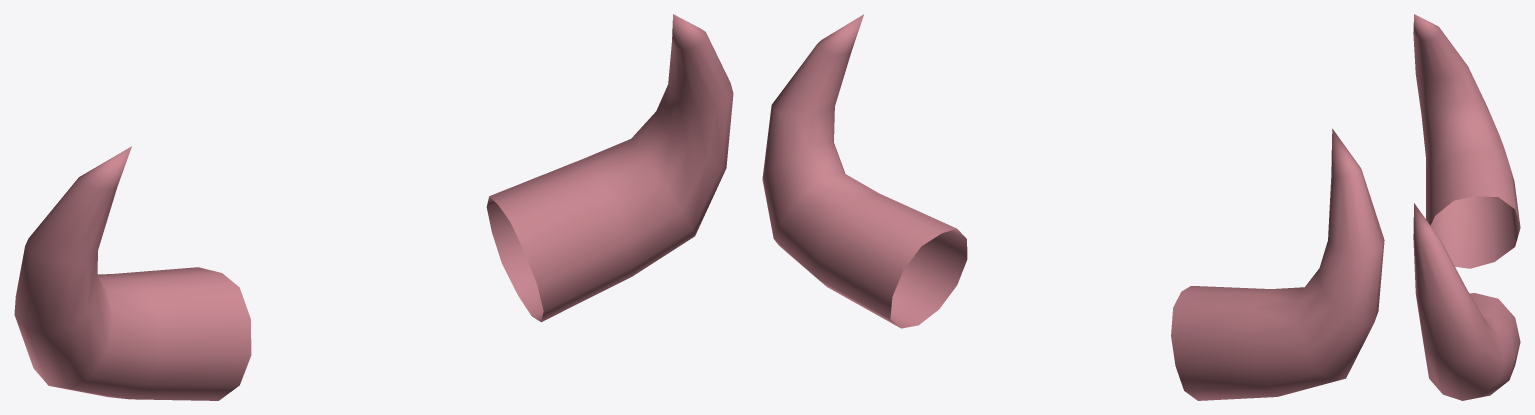
Rendered from HornsLOD1.fbx.
3 renders of one model, left to right at view 1: azimuth 30°, elevation 25°; view 2: azimuth 150°, elevation 25°; view 3: azimuth 270°, elevation 25°, orthographic. The views are drawn at different scales.
Visible parts, largest first — view 1: Horns; view 2: Horns; view 3: Horns.
Part boxes in pixels (bbox=[...]): Horns: bbox=[14, 14, 733, 400]; Horns: bbox=[762, 14, 1384, 400]; Horns: bbox=[1413, 14, 1520, 400].
Bounding box in the file's own units: 0.2831 × 0.1187 × 0.0526.
